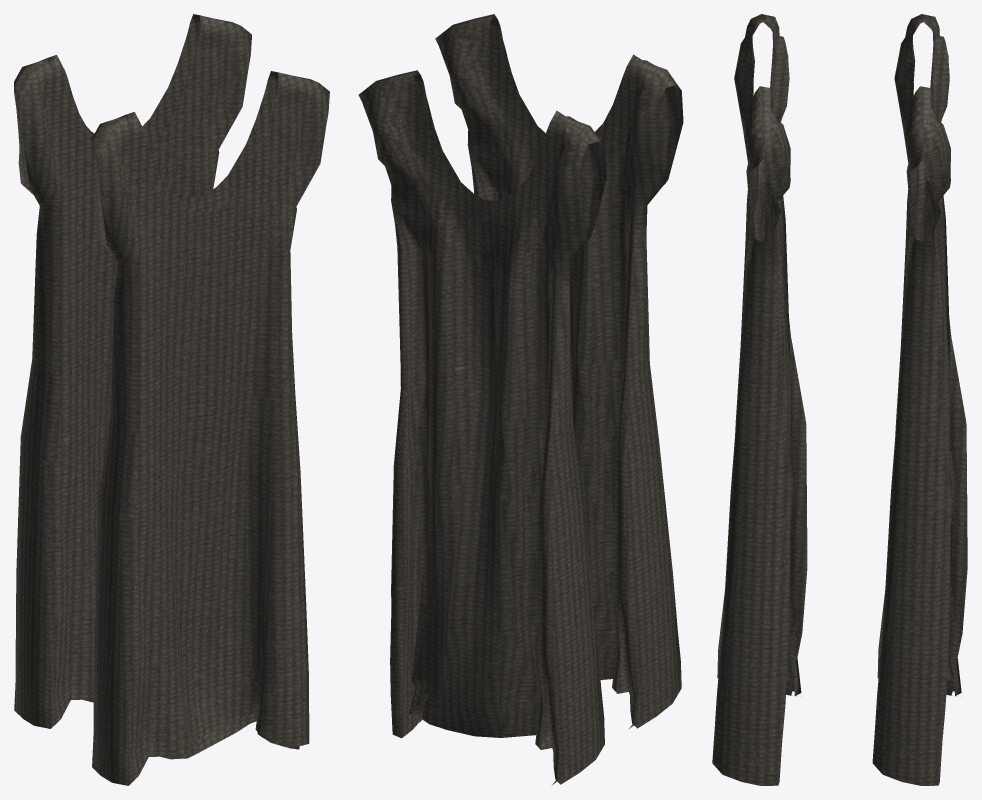
The model's file is yifu11_02.fbx.
3 renders of one model, left to right at view 1: azimuth 30°, elevation 25°; view 2: azimuth 150°, elevation 25°; view 3: azimuth 270°, elevation 25°, orthographic. The views are drawn at different scales.
Visible parts, largest first — view 1: yifu11_02; view 2: yifu11_02; view 3: yifu11_02.
Boxes of the visible parts, left/top/right/bottom form: yifu11_02: left=14, top=14, right=329, bottom=785; yifu11_02: left=358, top=14, right=683, bottom=785; yifu11_02: left=712, top=14, right=967, bottom=785.
Bounding box in the file's own units: 49.7 × 133 × 44.32.
